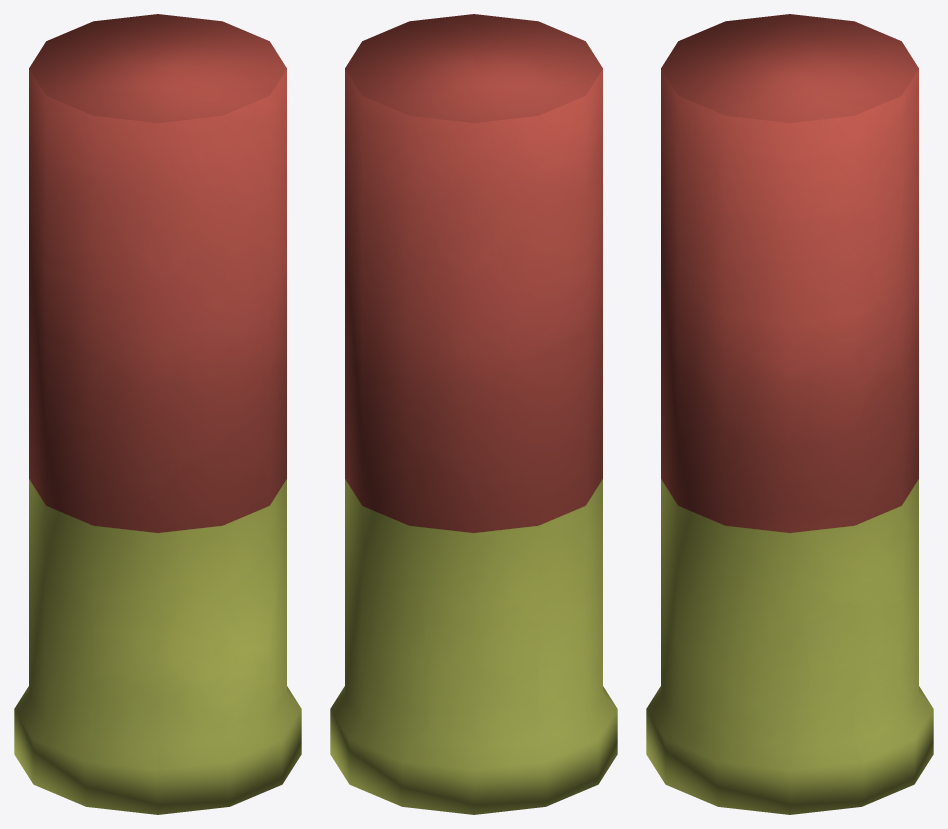
File: shell.fbx
3 views of the same model, side by side, from view 1: azimuth 30°, elevation 25°; view 2: azimuth 150°, elevation 25°; view 3: azimuth 270°, elevation 25° (orthographic).
Parts seen in each view (by area): view 1: shell; view 2: shell; view 3: shell.
Boxes of the visible parts, bbox=[...] form: shell: bbox=[14, 14, 301, 814]; shell: bbox=[330, 14, 617, 814]; shell: bbox=[646, 14, 933, 814].
Size of the model in its own units: 1.91 by 5.03 by 1.91.
Materials: 1 (1 with a texture image).
